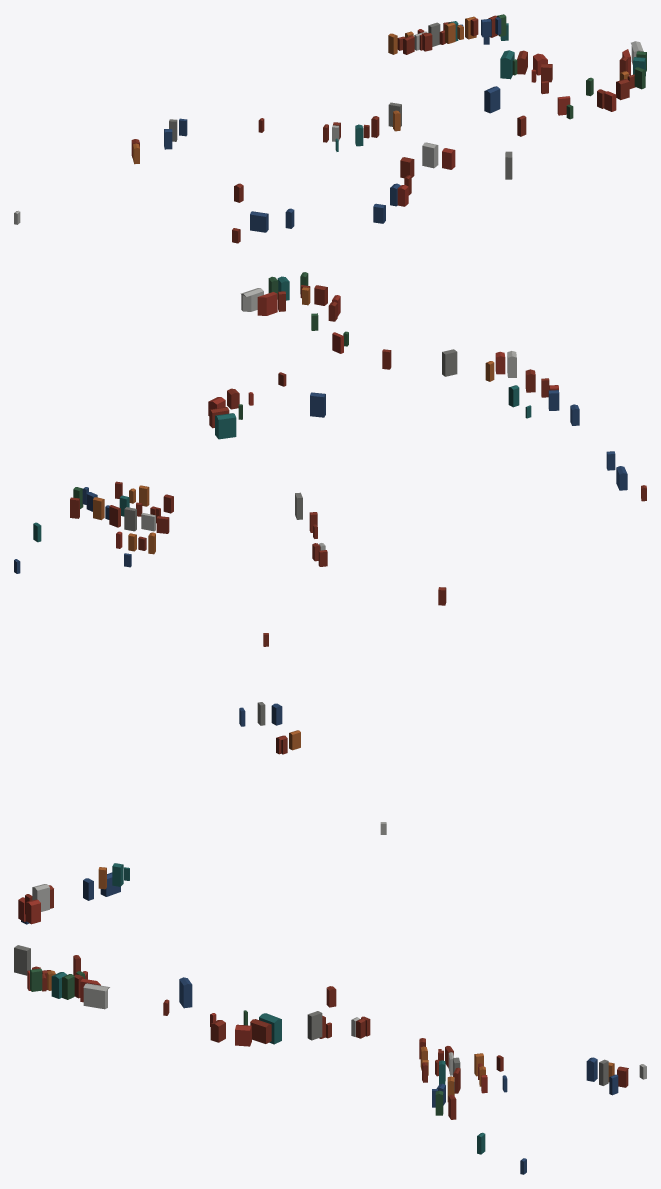
File: near-16-54718-29728.d658de1e.glb
3 views of the same model, one above another, from view 1: azimuth 30°, elevation 25°; view 2: azimuth 150°, elevation 25°; view 3: azimuth 270°, elevation 25° (orthographic). The views are drawn at different scales.
Bounding box in the file's own units: 529 × 310 × 590.
